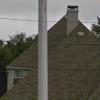Chimney: (62, 2, 82, 32)
